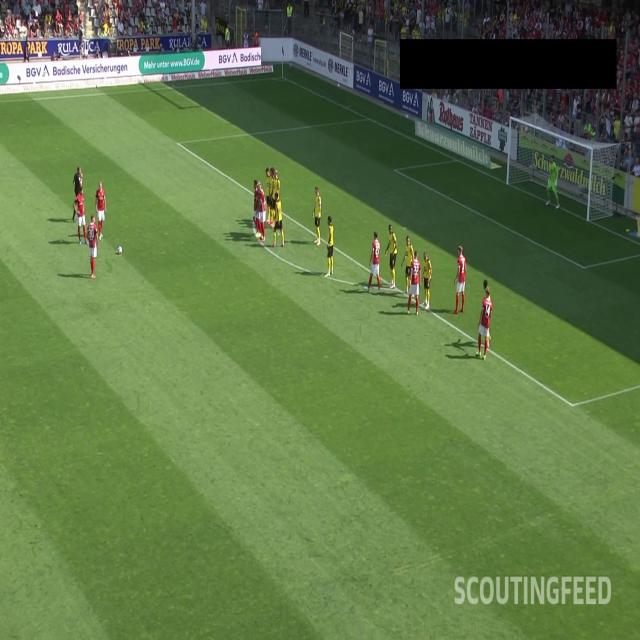ball: (117, 243, 123, 257)
player: (473, 287, 496, 361), (364, 228, 387, 282), (542, 152, 562, 212), (73, 185, 89, 248), (453, 244, 467, 316), (86, 213, 100, 280), (408, 248, 422, 314), (94, 180, 108, 240), (271, 190, 285, 250), (401, 234, 413, 296), (420, 247, 432, 309), (482, 276, 492, 350), (311, 184, 322, 246), (386, 223, 396, 290), (325, 215, 334, 278), (251, 177, 259, 240), (256, 180, 264, 240), (260, 183, 267, 245), (264, 166, 271, 224), (274, 166, 280, 228), (270, 164, 274, 227)
referee: (71, 165, 85, 224)
